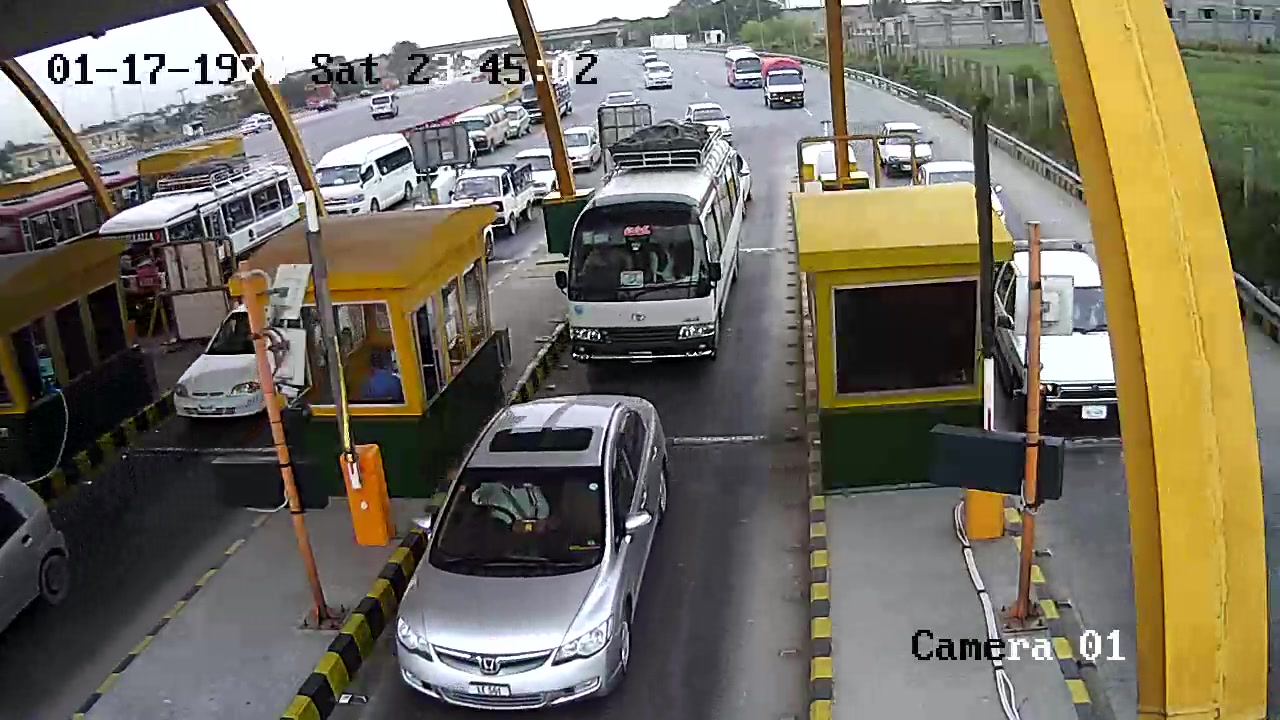F1: (383, 393, 676, 713)
F3: (555, 122, 751, 373)
